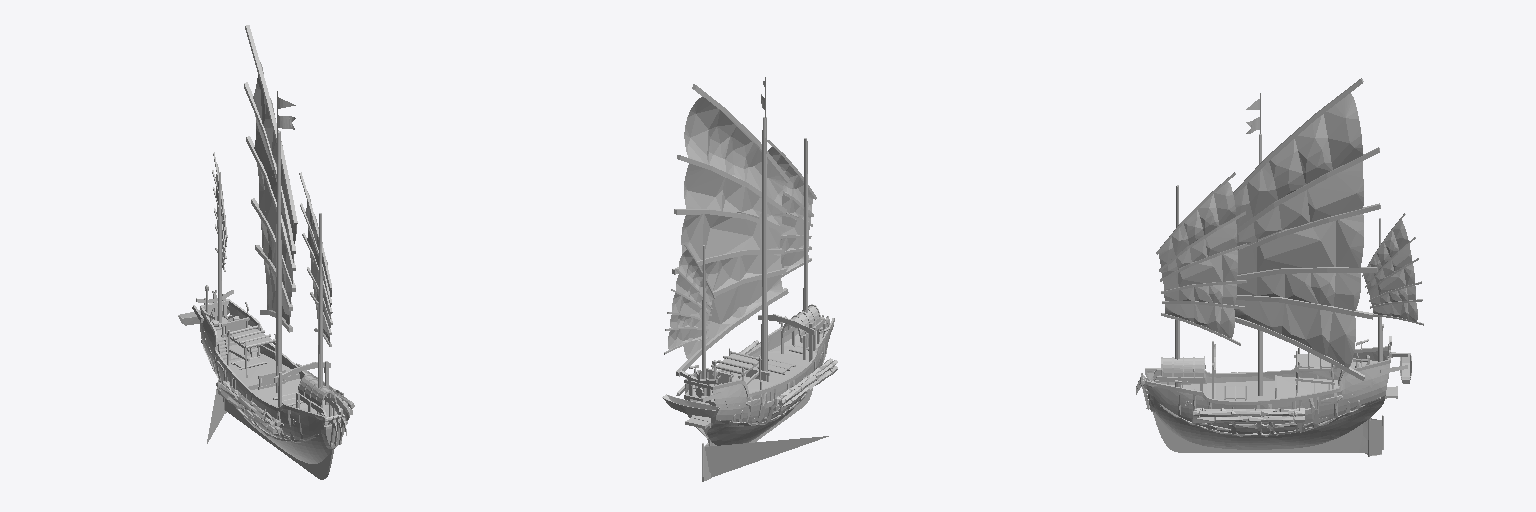
File: playerShip.obj
3 renders of one model, left to right at view 1: azimuth 30°, elevation 25°; view 2: azimuth 150°, elevation 25°; view 3: azimuth 270°, elevation 25°, orthographic.
Parts seen in each view (by area): view 1: MED-BOAT; view 2: MED-BOAT; view 3: MED-BOAT.
Boxes of the visible parts, box(x1,y1,x2,y2) form: MED-BOAT: box(178, 25, 354, 479); MED-BOAT: box(662, 77, 837, 481); MED-BOAT: box(1136, 78, 1423, 456).
Size of the model in its own units: 8.09 by 26.58 by 17.96.